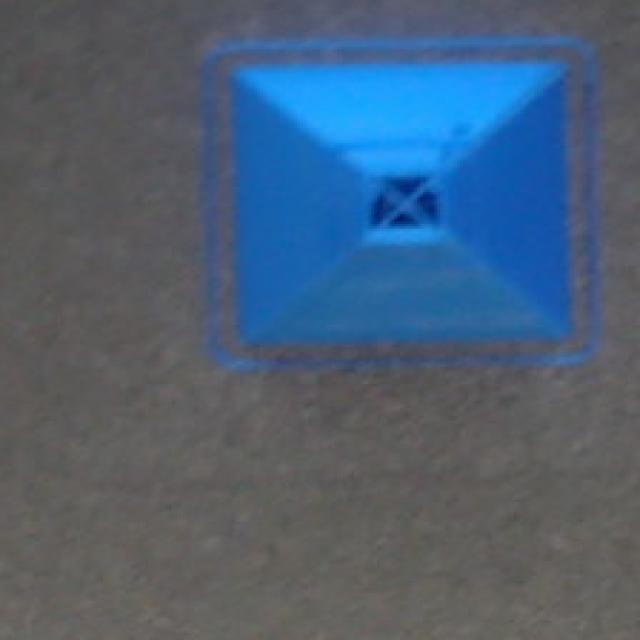mistake: (230, 66, 575, 347)
